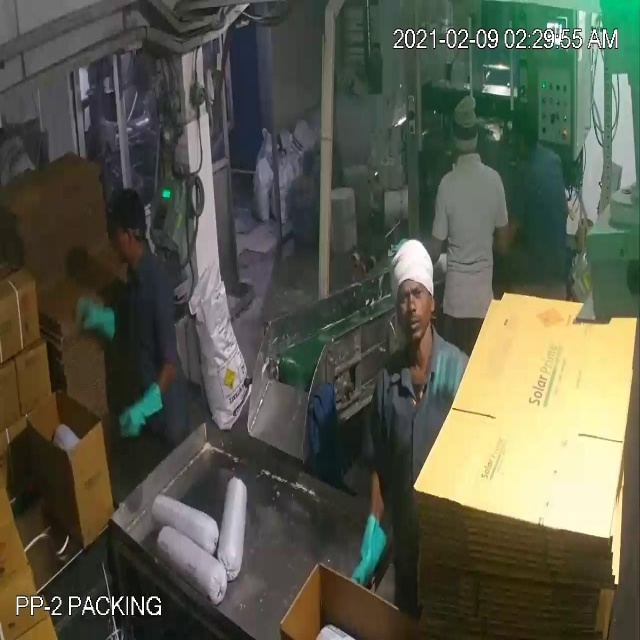Guantes: (340, 490, 394, 606), (114, 381, 168, 437), (73, 297, 121, 348)
